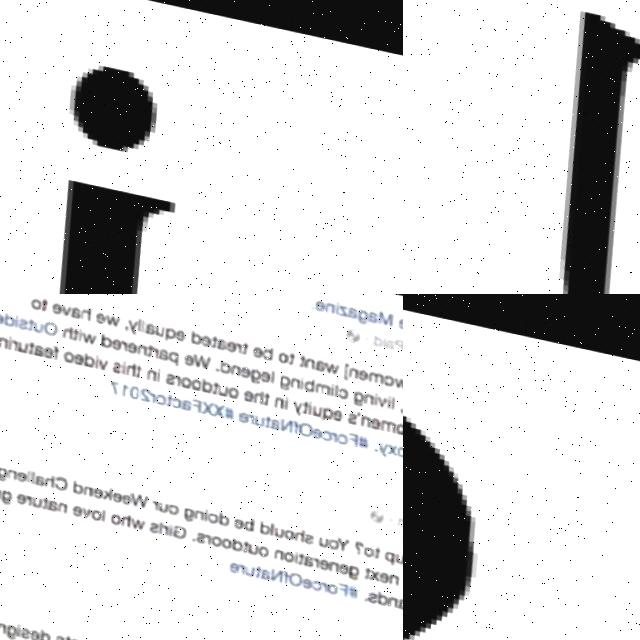0: (126, 383, 138, 398)
1: (118, 380, 127, 396)
2: (136, 385, 147, 400)
7: (106, 379, 118, 394)
J: (0, 41, 271, 294), (497, 0, 640, 294)
S: (403, 313, 640, 640)
